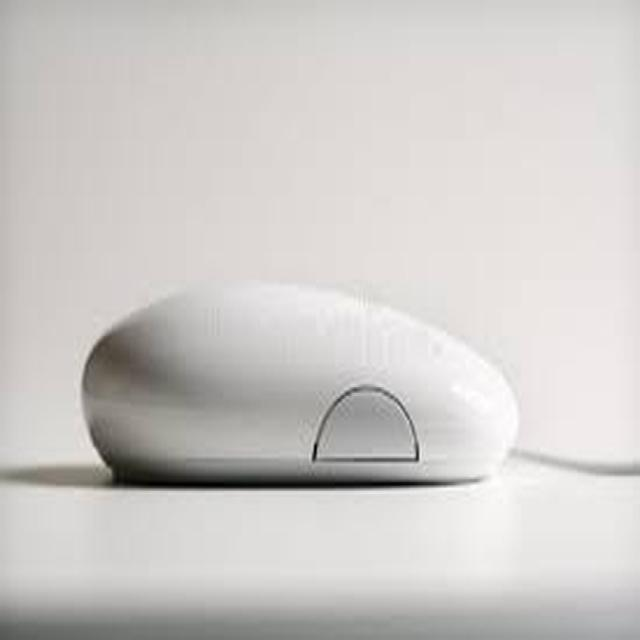mouse: (55, 268, 551, 514)
